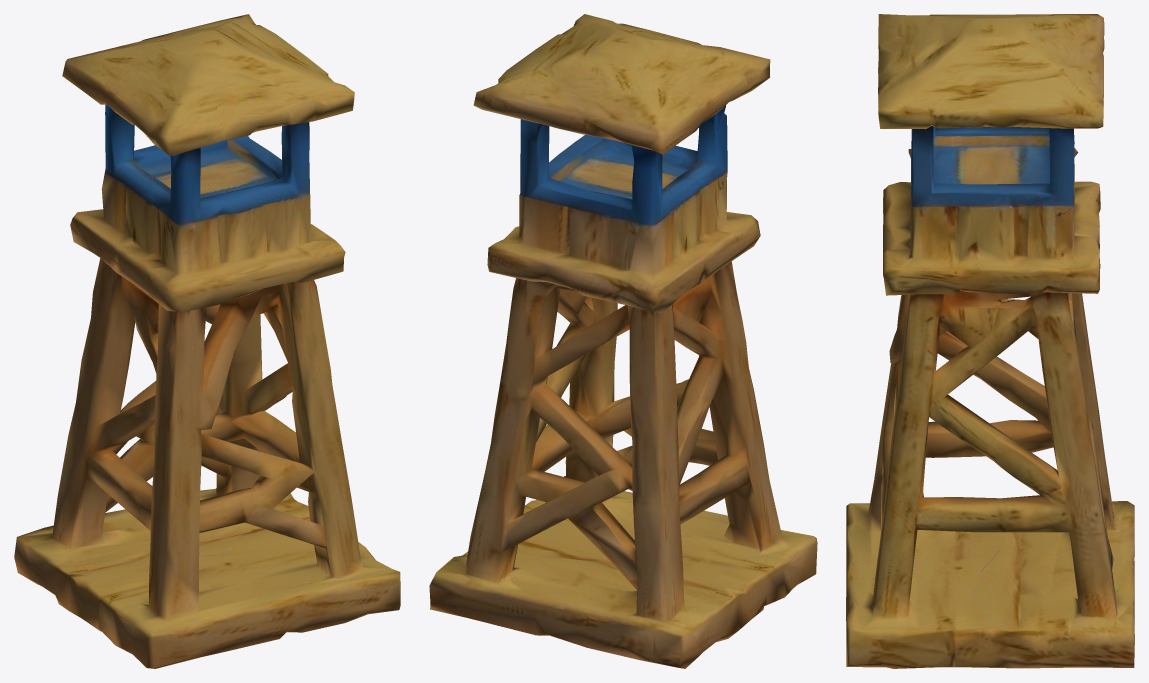
Rendered from lookout-tower.glb.
The picture shows the model from 3 angles, left to right: view 1: azimuth 30°, elevation 25°; view 2: azimuth 150°, elevation 25°; view 3: azimuth 270°, elevation 25°; orthographic projection. The views are drawn at different scales.
Visible parts, largest first — view 1: tripo_node_cfee109c-075e-4522-b435-d87392d16ecf; view 2: tripo_node_cfee109c-075e-4522-b435-d87392d16ecf; view 3: tripo_node_cfee109c-075e-4522-b435-d87392d16ecf.
Boxes of the visible parts, x1,y1,x2,y2 form: tripo_node_cfee109c-075e-4522-b435-d87392d16ecf: [14, 14, 400, 668]; tripo_node_cfee109c-075e-4522-b435-d87392d16ecf: [429, 14, 817, 668]; tripo_node_cfee109c-075e-4522-b435-d87392d16ecf: [846, 14, 1134, 668].
Bounding box in the file's own units: 0.483 × 1 × 0.4523.
1 material, 1 textured.
